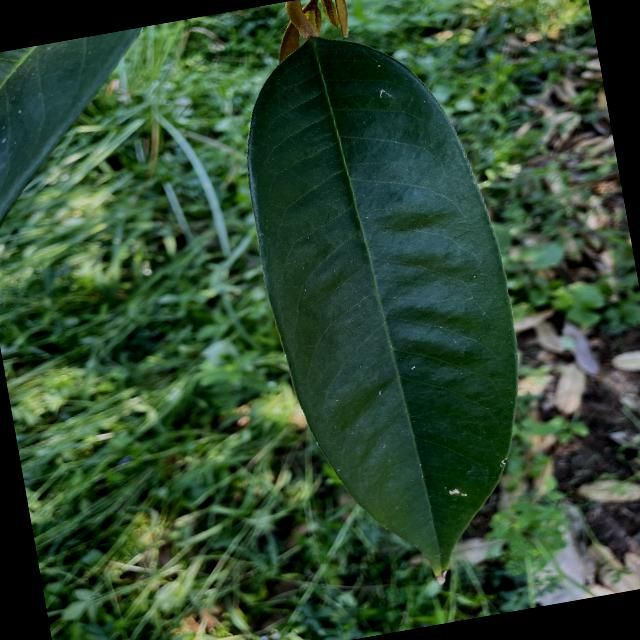No Disease: (213, 0, 571, 614)
